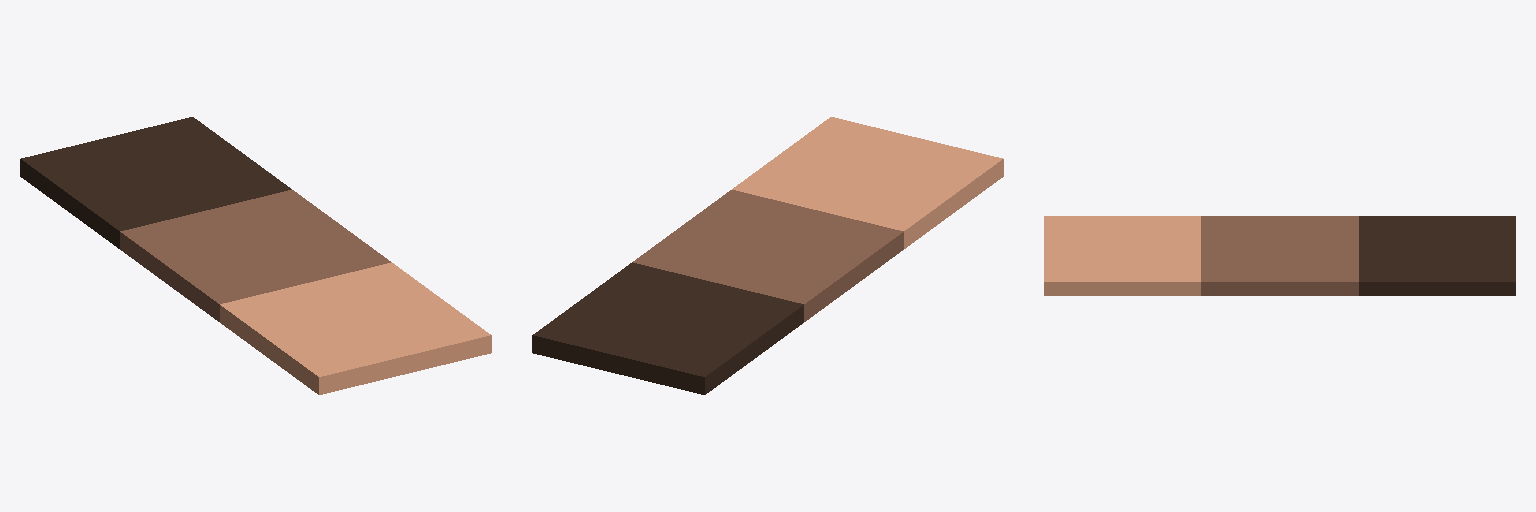
The robot description file, URDF, robot "stand.urdf":
<?xml version="0.0" ?>
<robot name="stand.urdf">
  <link name="baseLink">
    <contact>
      <lateral_friction value="1.0"/>
      <rolling_friction value="0.0001"/>
      <inertia_scaling value="3.0"/>
    </contact>
    <inertial>
      <origin rpy="0 0 0" xyz="0 0 0"/>
       <mass value=".1"/>
       <inertia ixx="1" ixy="0" ixz="0" iyy="1" iyz="0" izz="1"/>
    </inertial>
    <visual>
      <origin rpy="0 0 0" xyz="0 0 0"/>
      <geometry>
        <box size=".05 .05 .005"/>
      </geometry>
      <material name="brown">
        <color rgba="0.61176471 0.45882353 0.37254902 1"/>
      </material>
    </visual>
    <collision>
      <origin rpy="0 0 0" xyz="0 0 0"/>
      <geometry>
        <box size=".05 .05 .005"/>
      </geometry>
    </collision>
  </link>

  <link name="base1">
    <inertial>
      <origin rpy="0 0 0" xyz="0 0 0"/>
       <mass value=".1"/>
       <inertia ixx="1" ixy="0" ixz="0" iyy="1" iyz="0" izz="1"/>
    </inertial>
    <visual>
      <origin rpy="0 0 0" xyz="0 -0.05 0"/>
      <geometry>
        <box size=".05 .05 .005"/>
      </geometry>
      <material name="lightbrown">
        <color rgba="0.91764706 0.68823529 0.55882353 1"/>
      </material>
    </visual>
    <collision>
      <origin rpy="0 0 0" xyz="0 -0.05 0"/>
      <geometry>
        <box size=".05 .05 .005"/>
      </geometry>
    </collision>
  </link>
  <joint name="baseLink-base1" type="fixed">
    <origin xyz="0 0 0" rpy="0 0 0"/>
    <parent link="baseLink"/>
    <child link="base1"/>
  </joint>

  <link name="base2">
    <inertial>
      <origin rpy="0 0 0" xyz="0 0 0"/>
       <mass value=".1"/>
       <inertia ixx="1" ixy="0" ixz="0" iyy="1" iyz="0" izz="1"/>
    </inertial>
    <visual>
      <origin rpy="0 0 0" xyz="0 0.05 0"/>
      <geometry>
        <box size=".05 .05 .005"/>
      </geometry>
      <material name="darkbrown">
        <color rgba="0.30588235 0.22941176 0.18627451 1"/>
      </material>
    </visual>
    <collision>
      <origin rpy="0 0 0" xyz="0 0.05 0"/>
      <geometry>
        <box size=".05 .05 .005"/>
      </geometry>
    </collision>
  </link>
  <joint name="baseLink-base2" type="fixed">
    <origin xyz="0 0 0" rpy="0 0 0"/>
    <parent link="baseLink"/>
    <child link="base2"/>
  </joint>

</robot>

--- Render facts (derived) ---
The picture shows the robot from 3 angles, left to right: view 1: azimuth 30°, elevation 25°; view 2: azimuth 150°, elevation 25°; view 3: azimuth 270°, elevation 25°; orthographic projection.
Robot: stand.urdf — 3 links, 2 joints (2 fixed); root link baseLink; default pose: every joint at zero.
Visible links, largest first — view 1: base1, baseLink, base2; view 2: base2, baseLink, base1; view 3: baseLink, base1, base2.
Link boxes in pixels (x1,y1,x2,y2): base1: (220, 262, 491, 394); baseLink: (120, 190, 390, 321); base2: (20, 117, 291, 248); base2: (532, 262, 803, 394); baseLink: (633, 190, 903, 321); base1: (732, 117, 1003, 248); baseLink: (1201, 216, 1358, 295); base1: (1044, 216, 1200, 295); base2: (1359, 216, 1515, 295).
Bounding box of the posed robot: 0.05 × 0.15 × 0.005 m (x, y, z).
Geometry: primitives only (box / cylinder / sphere), no mesh files.